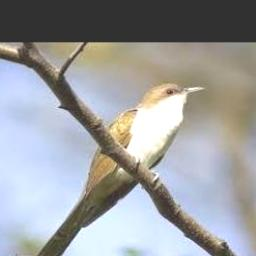Cuckoo: (24, 84, 206, 256)
